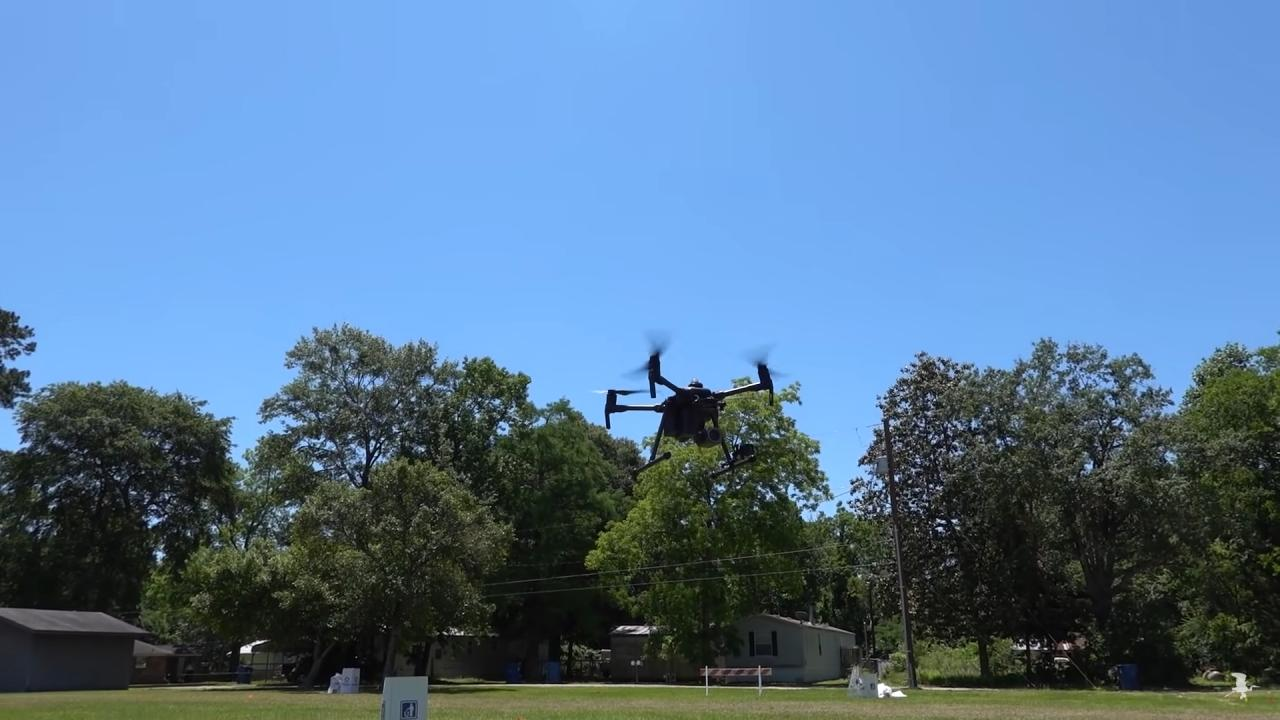Drone: (580, 315, 814, 495)
